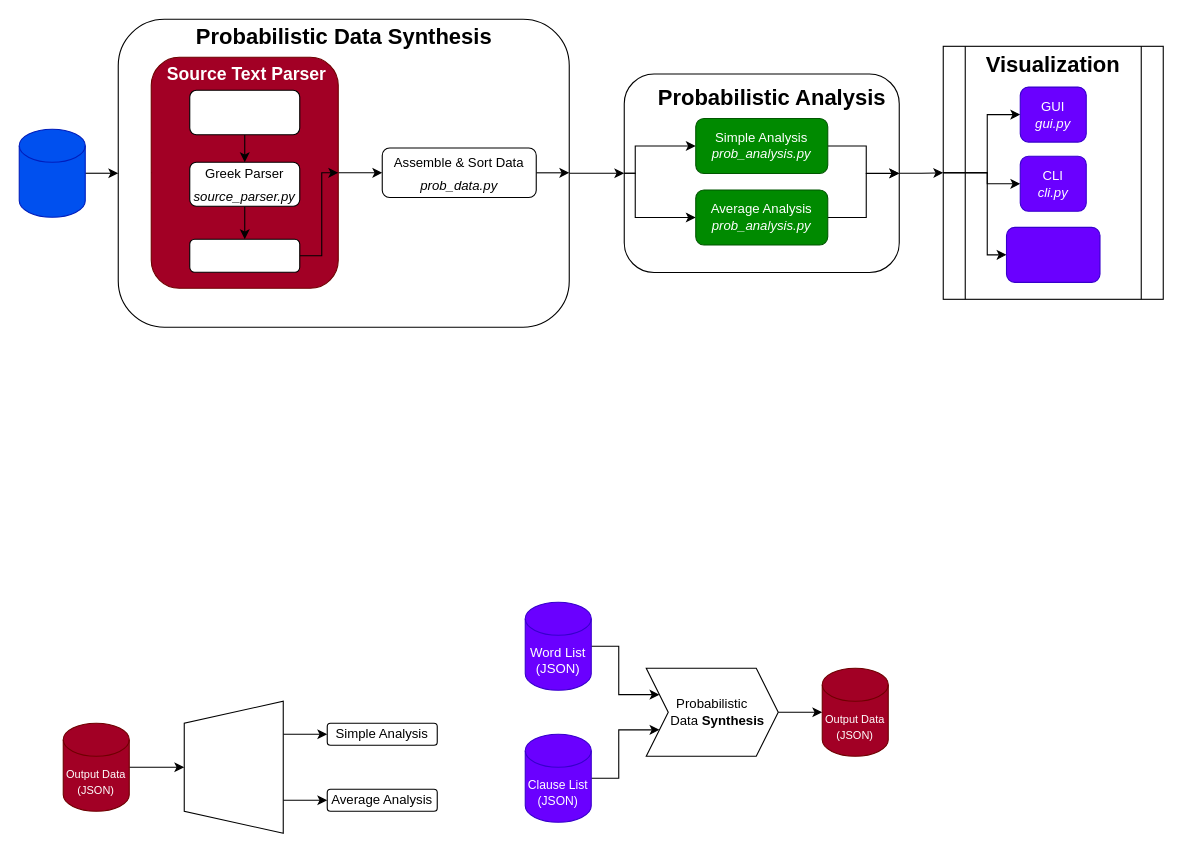
The diagram is 1183 pixels wide and 853 high, and some of its shapes have lost their labels. The centre of each missing label's shape, as x and y in pixels:
"Diacritical Filter diacritical.py" goes at (244,112).
"Export Verse Data" goes at (244,255).
"Graphs data_vis.py" goes at (1052,254).
"Probabilistic Data Analysis" goes at (233,766).
"Source Text" goes at (51,172).
